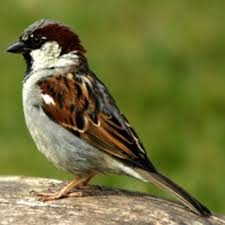hsparrow: (3, 17, 217, 225)
